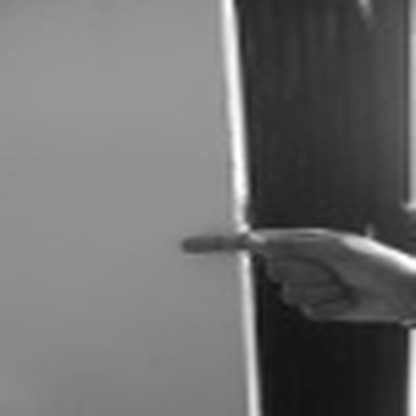g: (175, 215, 416, 333)
